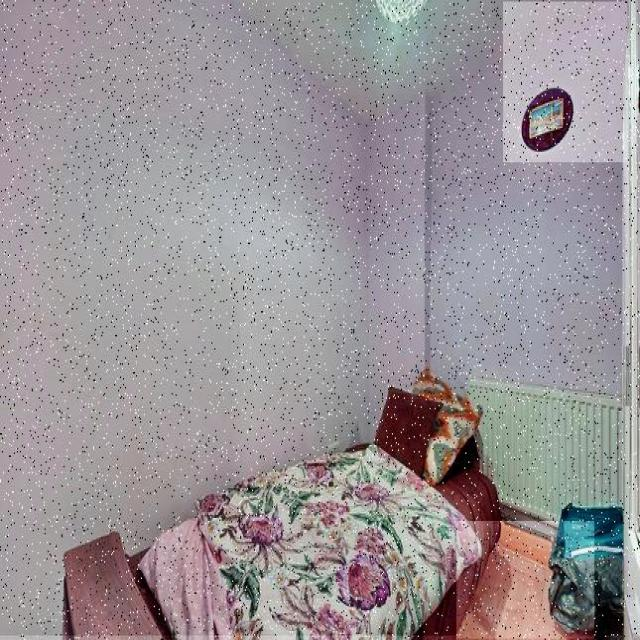Wall: (0, 2, 622, 636), (234, 0, 603, 118), (503, 2, 627, 162), (457, 521, 594, 639)
